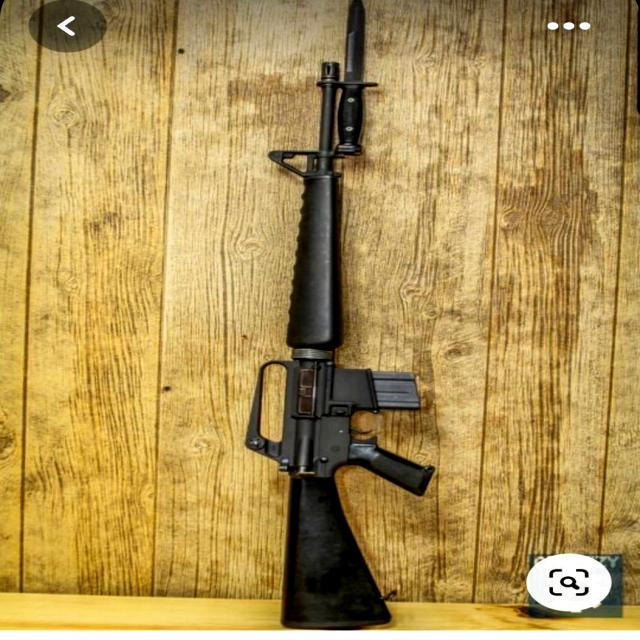m16: (150, 102, 490, 634)
